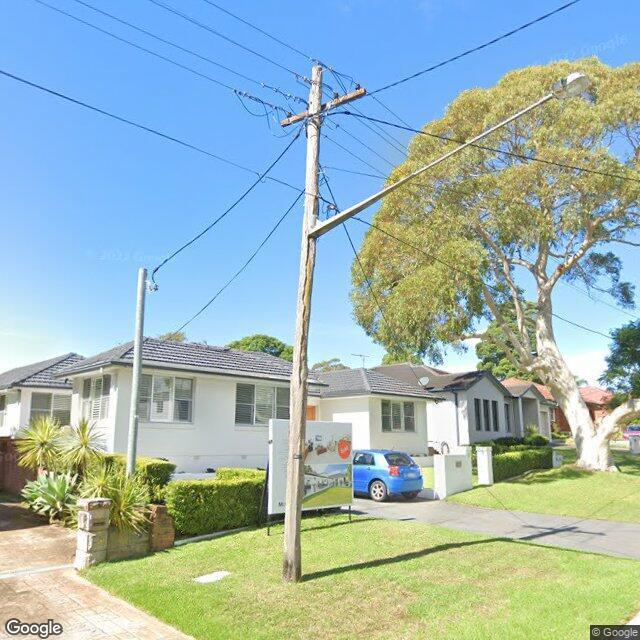crossarm: (281, 87, 366, 128)
steel-pole: (127, 268, 148, 478)
streetlight: (308, 72, 593, 238)
timber-pole: (283, 66, 324, 582)
